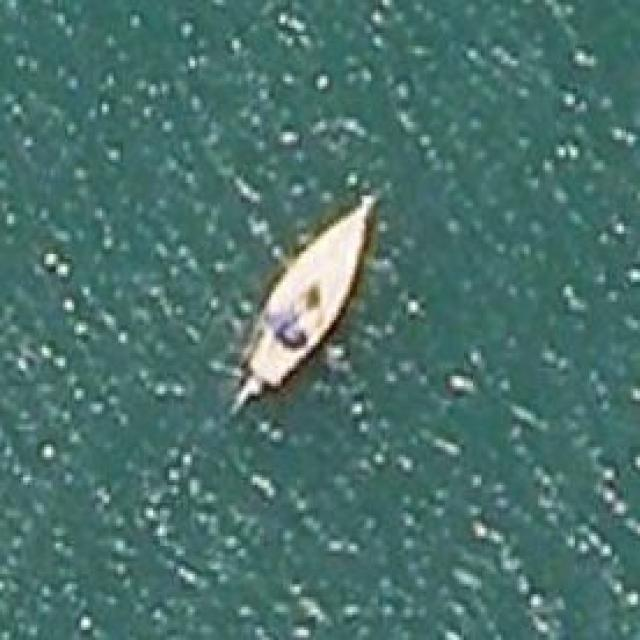ship: (234, 186, 378, 402)
